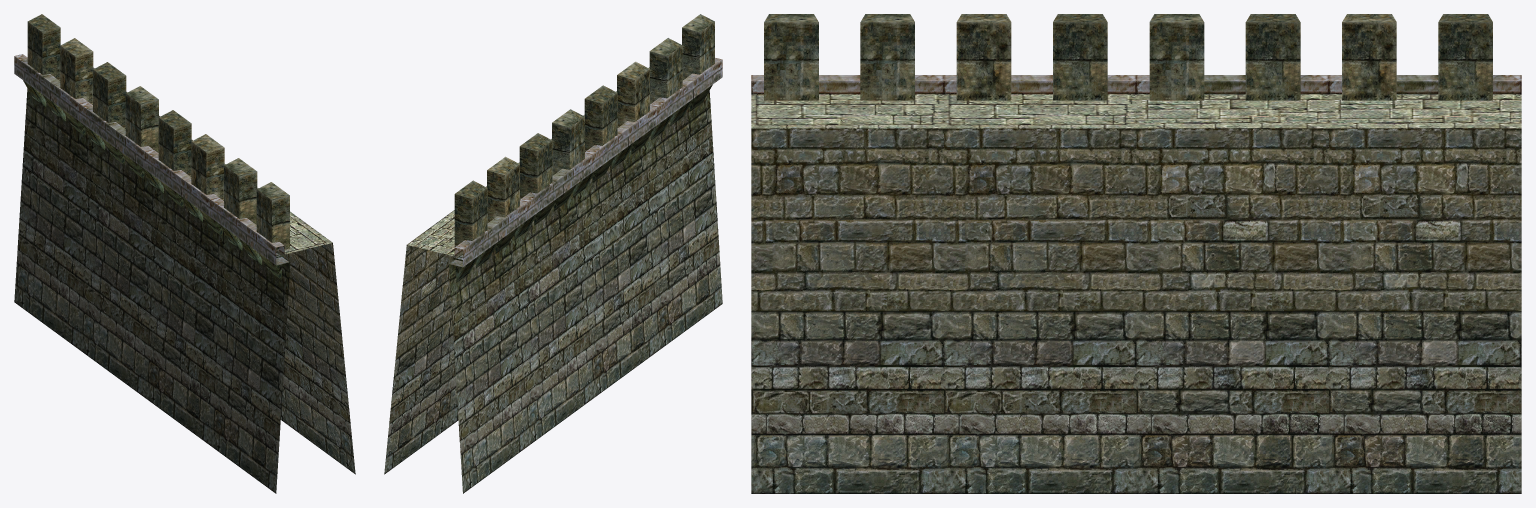
The picture shows the model from 3 angles, left to right: view 1: azimuth 30°, elevation 25°; view 2: azimuth 150°, elevation 25°; view 3: azimuth 270°, elevation 25°; orthographic projection. The views are drawn at different scales.
Parts seen in each view (by area): view 1: cc24-col; view 2: cc24-col; view 3: cc24-col.
Part boxes in pixels (x1,y1,x2,y2): cc24-col: (14, 14, 355, 493); cc24-col: (384, 14, 722, 493); cc24-col: (751, 14, 1521, 493).
Bounding box in the file's own units: 2.8 × 9.81 × 16.
10 materials, 10 textured.
